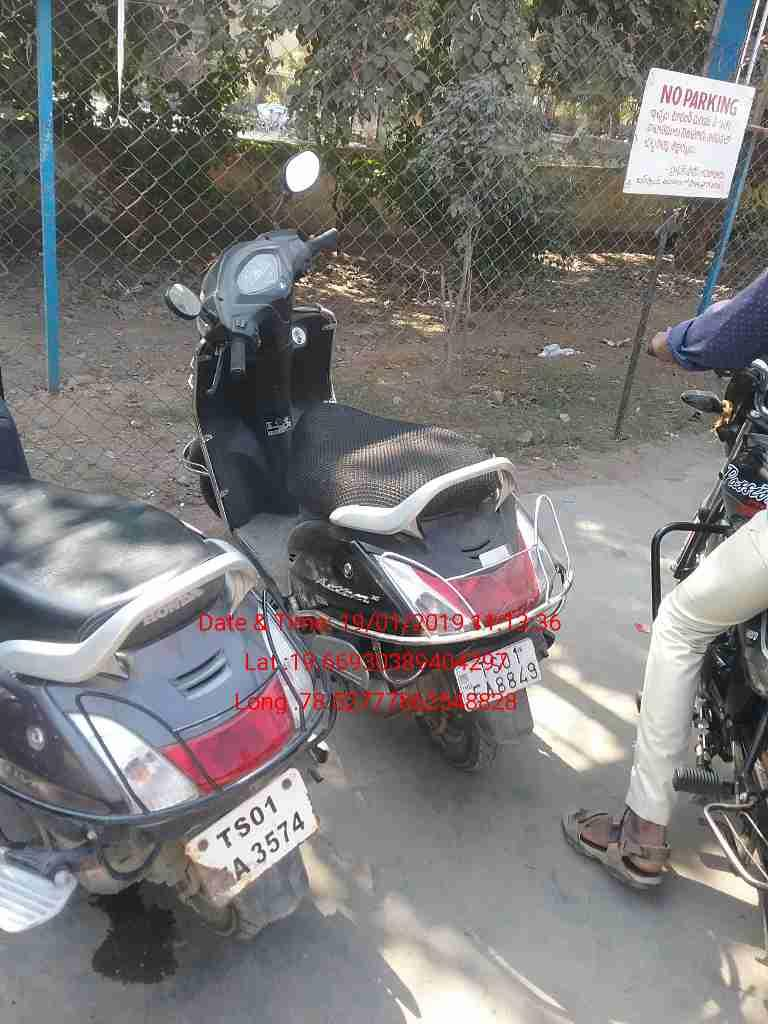plate: (186, 766, 316, 905)
